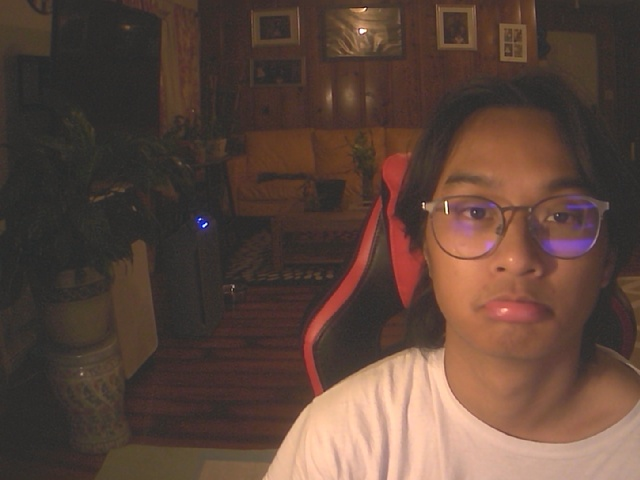sad: (390, 70, 638, 363)
